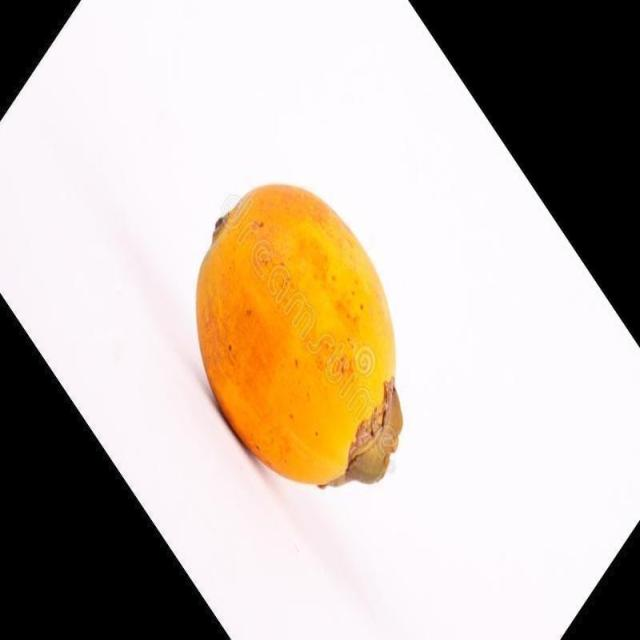good: (195, 185, 403, 490)
